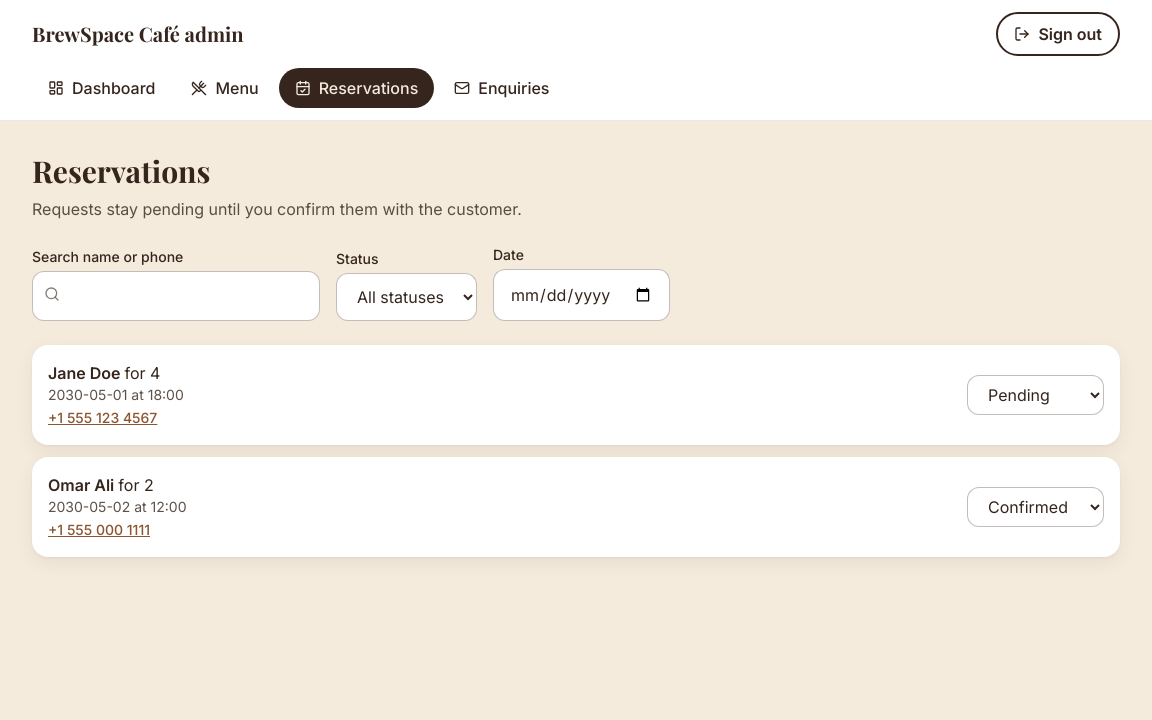
Test: admin reservations and enquiries › shows an error when a status update fails
The width and height of the screenshot is (1152, 720).
Select "Cancelled" in the dropdown named "Status for Jane Doe" in the row of "Jane Doe" at (1036, 395), box 967,375 -> 1104,415
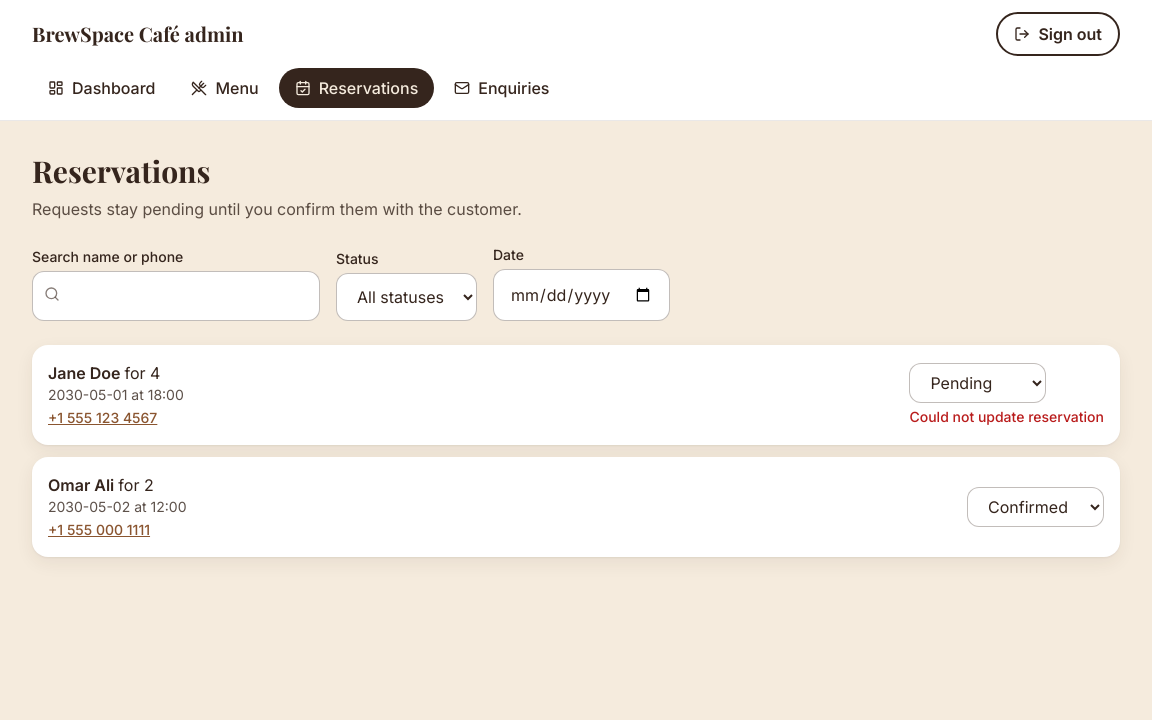
expect the message reads "Could not update reservation": met, box 910,408 -> 1104,425
